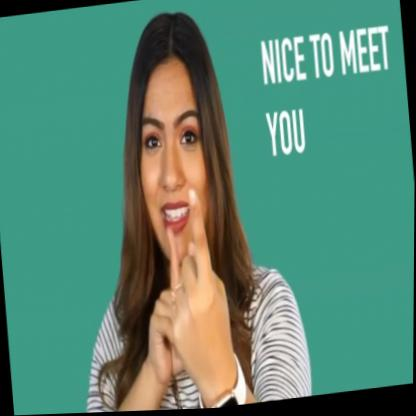NiceToMeetYou: (133, 191, 242, 399)
